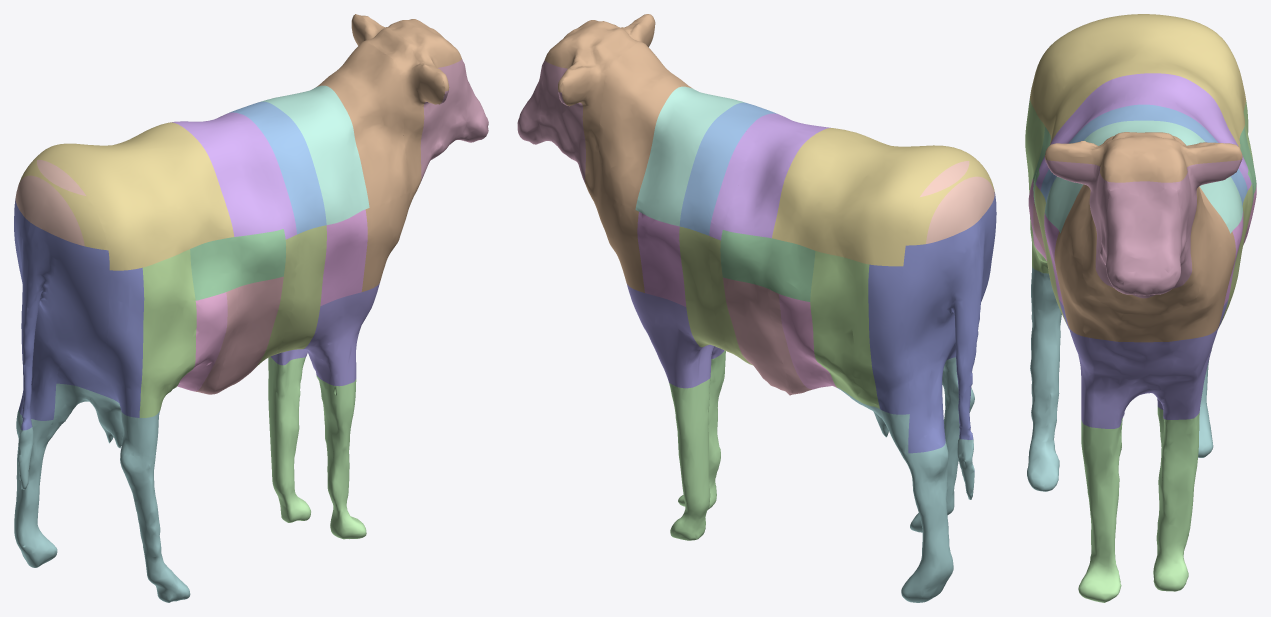
3 renders of one model, left to right at view 1: azimuth 30°, elevation 25°; view 2: azimuth 150°, elevation 25°; view 3: azimuth 270°, elevation 25°, orthographic. The views are drawn at different scales.
Visible parts, largest first — view 1: silverside, rump, neck-and-clod, leg, shin, sirloin, topside, chuck-and-blade, thin-flank, thin-rib, fillet, fore-rib (+5 smaller); view 2: silverside, rump, neck-and-clod, leg, topside, sirloin, chuck-and-blade, shin, thin-flank, thin-rib, fillet, fore-rib (+5 smaller); view 3: neck-and-clod, rump, ox-cheek, shin, brisket, leg, sirloin, chuck-and-blade, fore-rib, topside, thin-rib, thick-rib (+2 smaller).
Part boxes in pixels (<box>): silverside: <box>14,199,144,461</box>; rump: <box>18,122,234,270</box>; neck-and-clod: <box>317,14,461,291</box>; leg: <box>14,383,190,602</box>; shin: <box>268,356,366,539</box>; sirloin: <box>170,112,296,239</box>; topside: <box>139,249,196,417</box>; chuck-and-blade: <box>260,85,369,224</box>; thin-flank: <box>194,276,283,394</box>; thin-rib: <box>256,225,326,366</box>; fillet: <box>190,229,285,300</box>; fore-rib: <box>229,101,326,234</box>; silverside: <box>868,192,996,471</box>; rump: <box>772,128,994,266</box>; neck-and-clod: <box>545,14,692,292</box>; leg: <box>837,357,974,602</box>; topside: <box>810,251,879,408</box>; sirloin: <box>709,113,830,240</box>; chuck-and-blade: <box>635,86,744,226</box>; shin: <box>669,350,725,540</box>; thin-flank: <box>723,277,811,395</box>; thin-rib: <box>679,226,752,365</box>; fillet: <box>720,230,815,301</box>; fore-rib: <box>679,102,777,235</box>; neck-and-clod: <box>1045,132,1242,342</box>; rump: <box>1030,14,1245,148</box>; ox-cheek: <box>1045,159,1242,298</box>; shin: <box>1078,407,1199,602</box>; brisket: <box>1059,300,1228,428</box>; leg: <box>1027,267,1213,491</box>; sirloin: <box>1035,73,1251,190</box>; chuck-and-blade: <box>1044,120,1242,233</box>; fore-rib: <box>1040,104,1247,205</box>; topside: <box>1025,99,1253,273</box>; thin-rib: <box>1034,184,1252,328</box>; thick-rib: <box>1044,211,1243,306</box>.
Size of the model in its own units: 1 by 0.995 by 0.4133.
